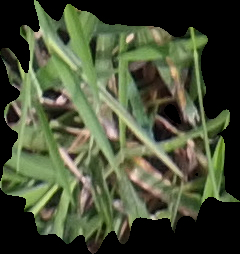grass: (1, 1, 238, 252)
